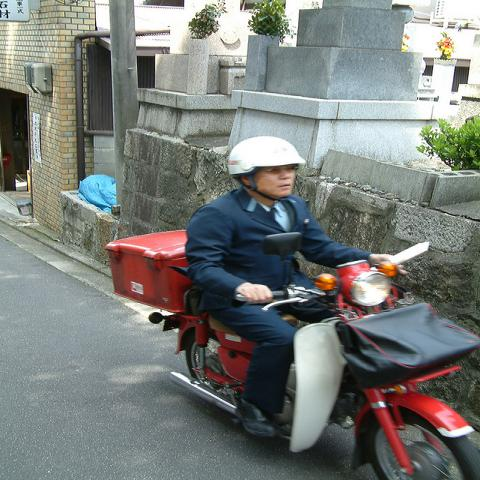motorcycle: (106, 229, 479, 480)
